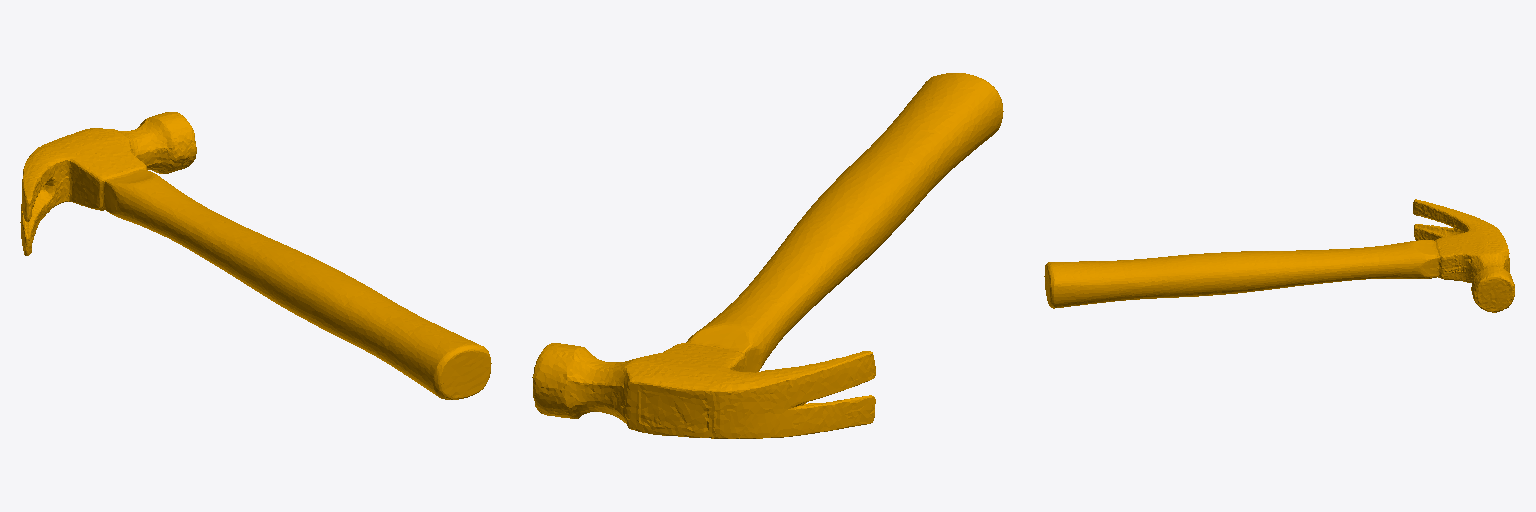
robot.urdf — root:
<robot name="root">
  <link name="link_original">
    <visual>
      <origin xyz="0 0 0" rpy="0 0 0"/>
      <geometry>
        <mesh filename="textured.obj" scale="1.0000E+00 1.0000E+00 1.0000E+00"/>
      </geometry>
    </visual>
    <inertial>
      <origin xyz="0 0 0" rpy="0 0 0"/>
      <mass value="2.5894E-01"/>
      <inertia ixx="2.95E-03" ixy="3.64E-04" ixz="3.81E-06" iyy="1.46E-04" iyz="-1.38E-05" izz="3.08E-03"/>
    </inertial>
    <collision>
      <origin xyz="0 0 0" rpy="0 0 0"/>
      <geometry>
        <mesh filename="coacd_allinone.obj" scale="1.0000E+00 1.0000E+00 1.0000E+00"/>
      </geometry>
    </collision>
  </link>
</robot>

--- Render facts (derived) ---
3 views of the same robot in one strip: view 1: azimuth 30°, elevation 25°; view 2: azimuth 150°, elevation 25°; view 3: azimuth 270°, elevation 25° (orthographic).
Model root with 1 links and 0 joints (none), rooted at link_original, posed every joint at zero.
Visible links, largest first — view 1: link_original; view 2: link_original; view 3: link_original.
Boxes of the visible links, x1=… form: link_original: x1=20, y1=112, x2=491, y2=399; link_original: x1=532, y1=73, x2=1003, y2=438; link_original: x1=1044, y1=199, x2=1514, y2=312.
Size in the robot's own frame: 0.1264 by 0.3355 by 0.0329 metres.
1 mesh visuals loaded from 1 distinct referenced files (1 OBJ).
